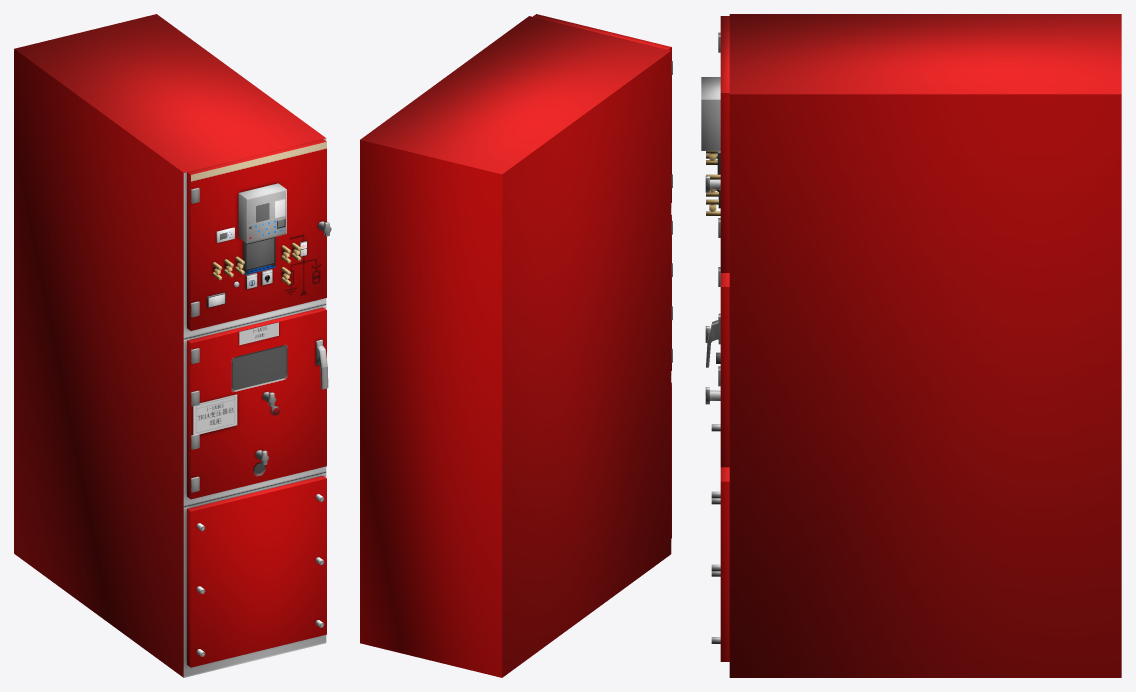
File: HVOC.glb
3 views of the same model, side by side, from view 1: azimuth 30°, elevation 25°; view 2: azimuth 150°, elevation 25°; view 3: azimuth 270°, elevation 25° (orthographic). The views are drawn at different scales.
Visible parts, largest first — view 1: Cylinder001; view 2: Cylinder001; view 3: Cylinder001.
Boxes of the visible parts, <box> form: Cylinder001: <box>14,14,331,677</box>; Cylinder001: <box>360,14,672,677</box>; Cylinder001: <box>701,14,1121,677</box>.
Size of the model in its own units: 65 by 220 by 144.
Materials: 1 (1 with a texture image).
